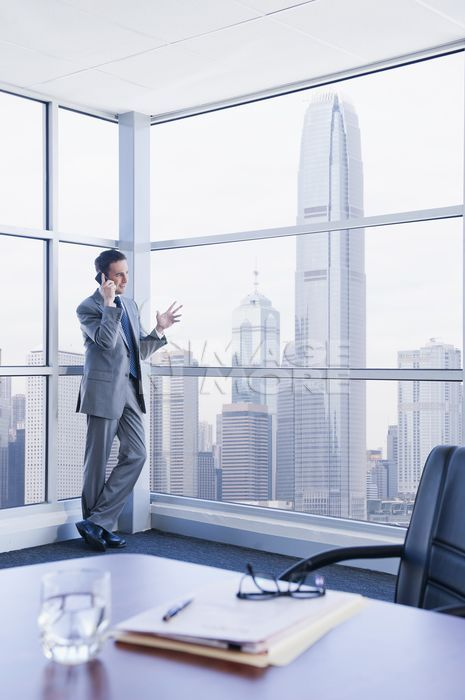phone: (88, 272, 116, 298)
